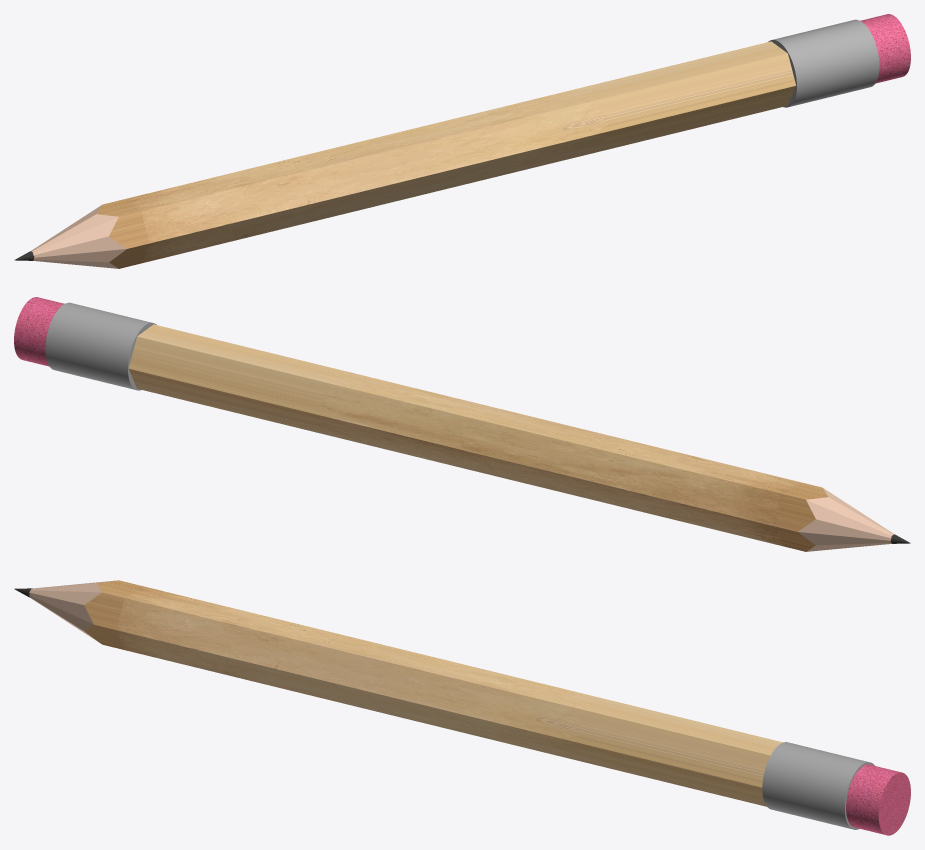
Rendered from pencil.glb.
3 renders of one model, top to bottom at view 1: azimuth 30°, elevation 25°; view 2: azimuth 150°, elevation 25°; view 3: azimuth 330°, elevation 25°, orthographic.
Parts seen in each view (by area): view 1: Cylinder_Material.002_0, Cylinder.003_Material.004_0, Cylinder.002_Material.001_0, Cylinder.003_Material.003_0; view 2: Cylinder_Material.002_0, Cylinder.003_Material.004_0, Cylinder.002_Material.001_0, Cylinder.003_Material.003_0; view 3: Cylinder_Material.002_0, Cylinder.003_Material.004_0, Cylinder.003_Material.003_0, Cylinder.002_Material.001_0.
Boxes of the visible parts, x1,y1,x2,y2 form: Cylinder_Material.002_0: (97,41,796,268); Cylinder.003_Material.004_0: (768,19,879,107); Cylinder.002_Material.001_0: (31,205,126,268); Cylinder.003_Material.003_0: (860,14,910,83); Cylinder_Material.002_0: (128,324,827,551); Cylinder.003_Material.004_0: (45,302,156,390); Cylinder.002_Material.001_0: (798,488,893,551); Cylinder.003_Material.003_0: (14,297,64,366); Cylinder_Material.002_0: (84,580,783,806); Cylinder.003_Material.004_0: (762,742,874,829); Cylinder.003_Material.003_0: (846,764,910,835); Cylinder.002_Material.001_0: (29,580,114,642).
Bounding box in the file's own units: 30.59 × 2.08 × 2.08.
Materials: 5 (3 with a texture image).
